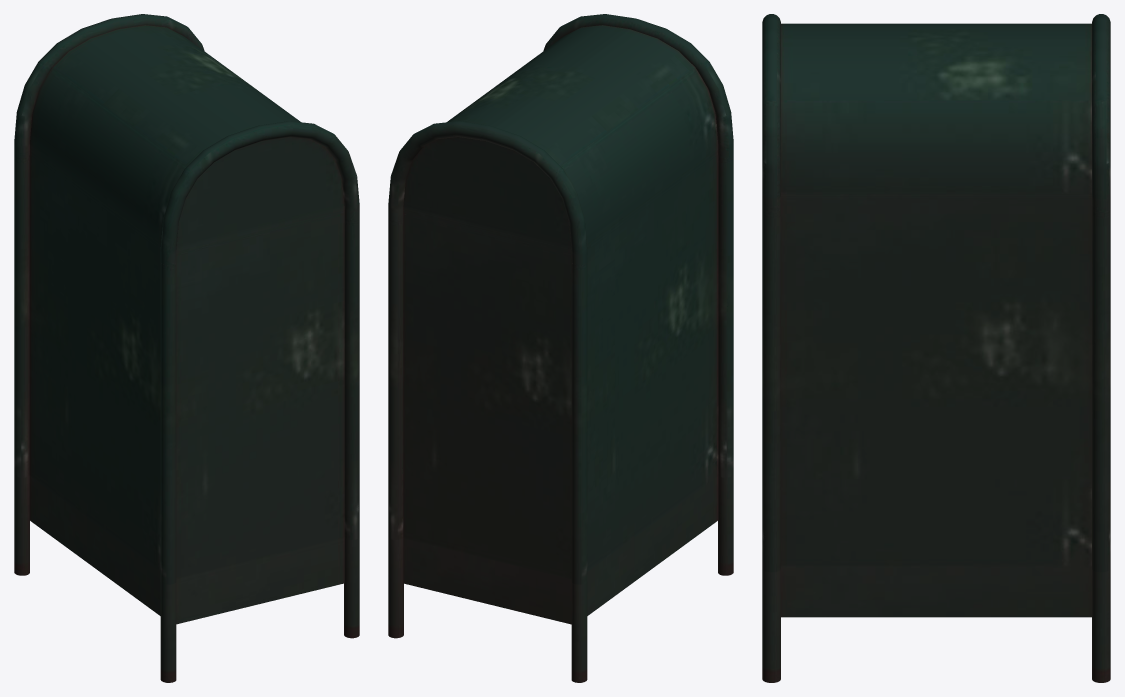
File: Basket04.fbx
3 renders of one model, left to right at view 1: azimuth 30°, elevation 25°; view 2: azimuth 150°, elevation 25°; view 3: azimuth 270°, elevation 25°, orthographic. The views are drawn at different scales.
Visible parts, largest first — view 1: Papelera; view 2: Papelera; view 3: Papelera.
Part boxes in pixels (x1=…): Papelera: x1=14, y1=14, x2=359, y2=682; Papelera: x1=388, y1=14, x2=733, y2=682; Papelera: x1=762, y1=14, x2=1110, y2=682.
Bounding box in the file's own units: 0.5118 × 1.32 × 0.6966.
